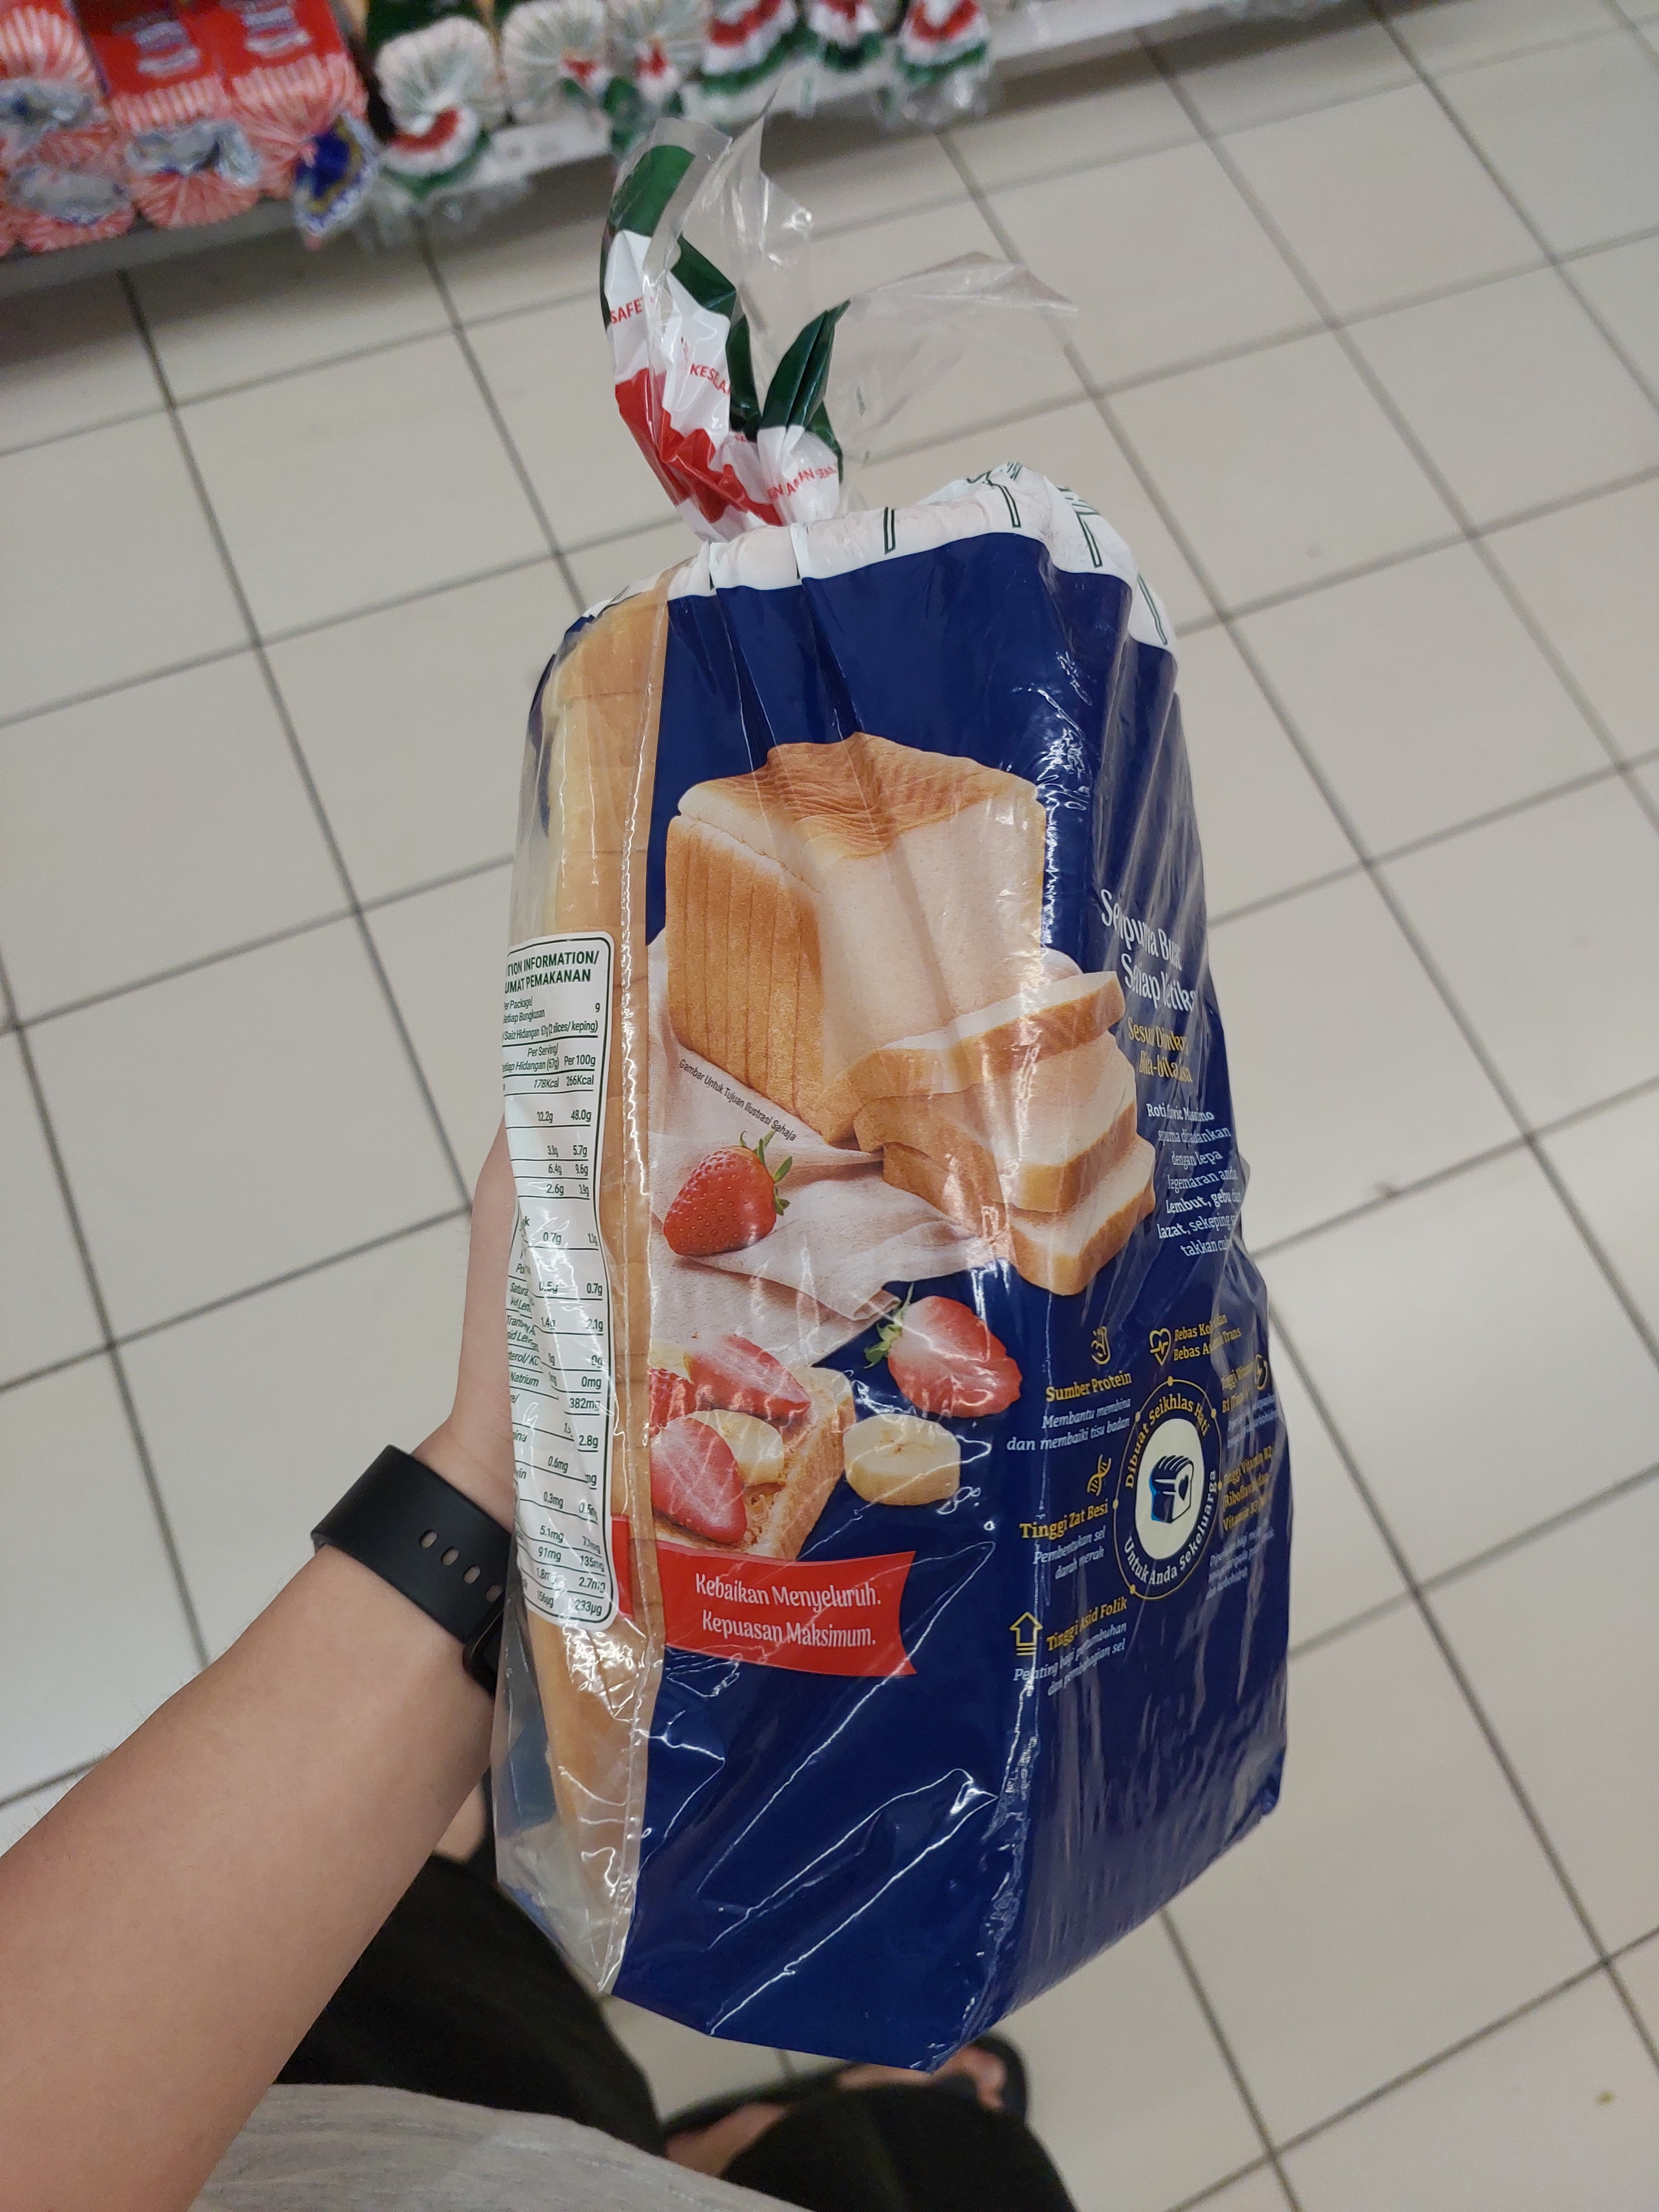bread: (483, 148, 1300, 2069)
